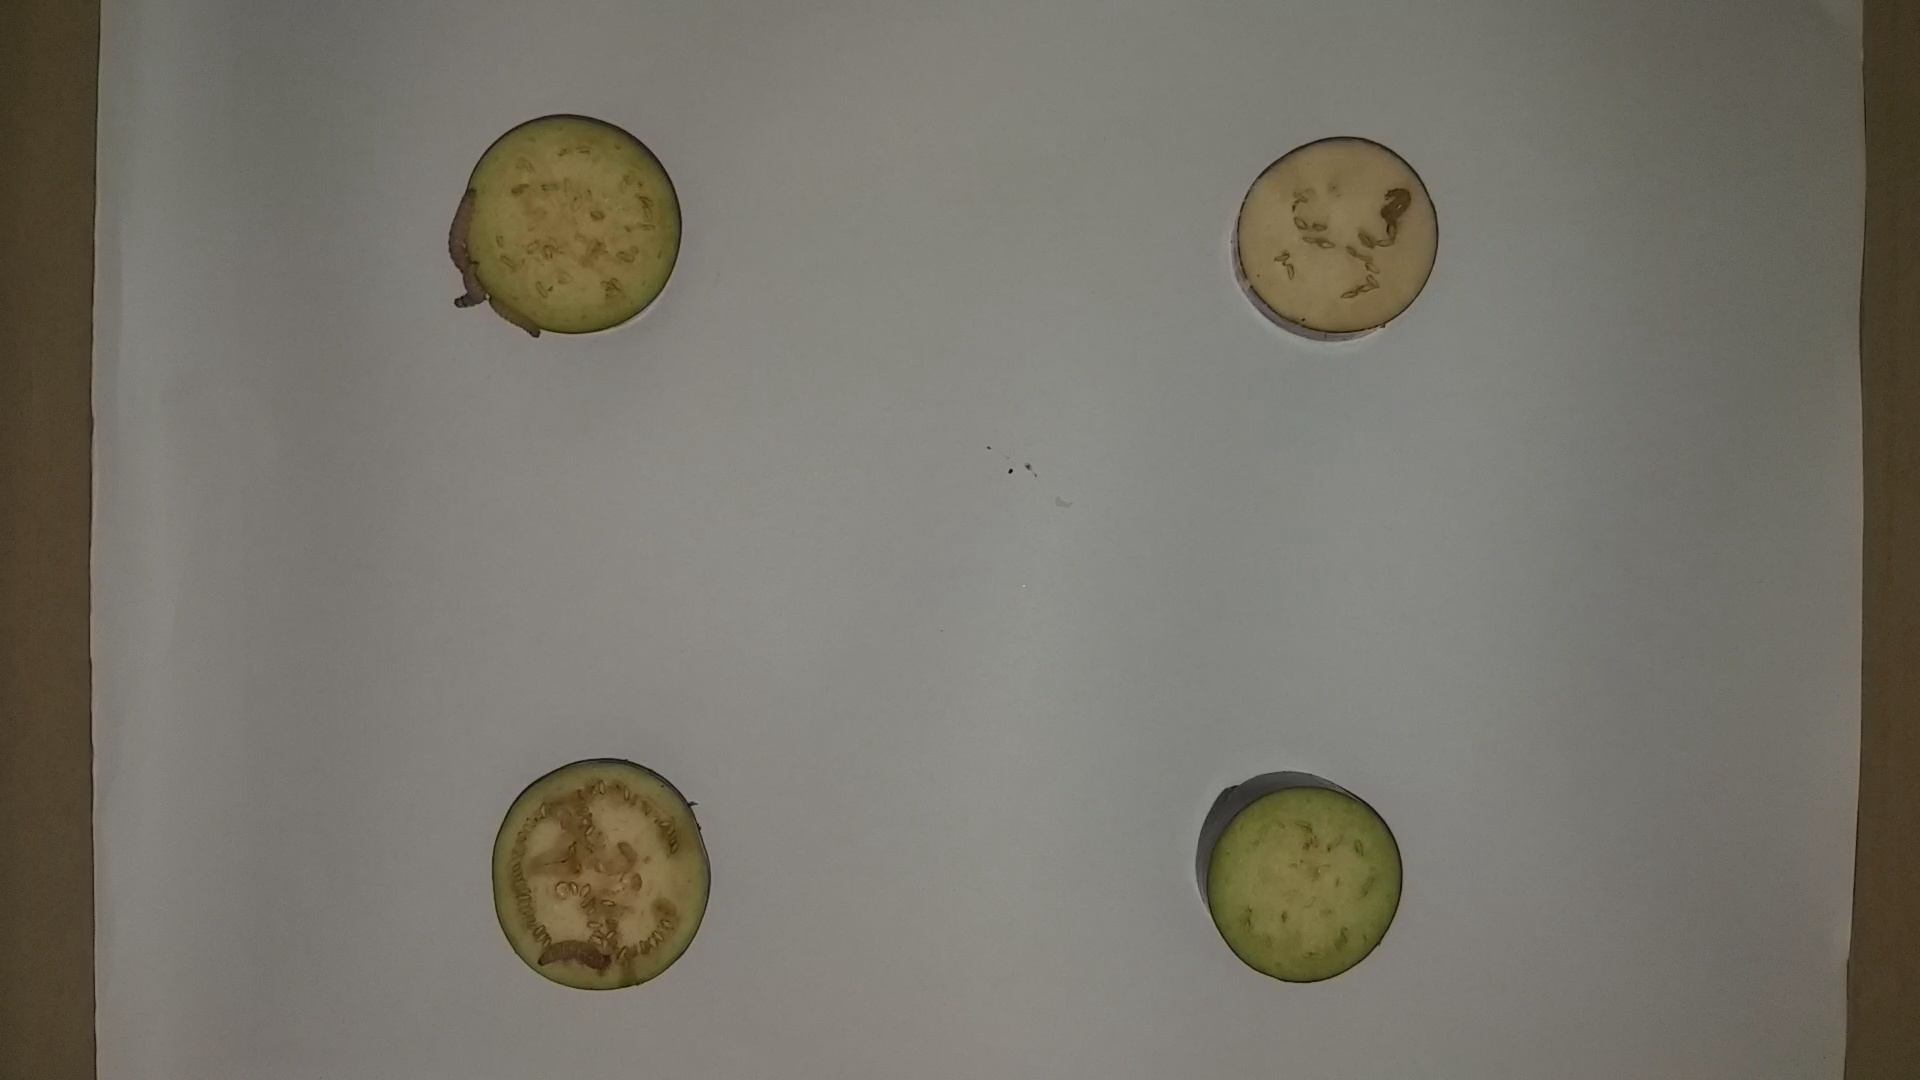efsb: (527, 930, 618, 976), (448, 179, 483, 276), (487, 291, 545, 345), (1374, 175, 1416, 235), (448, 257, 489, 314)
eggplant: (444, 100, 696, 352), (483, 752, 716, 1000), (1187, 760, 1414, 994), (1222, 125, 1449, 349)
